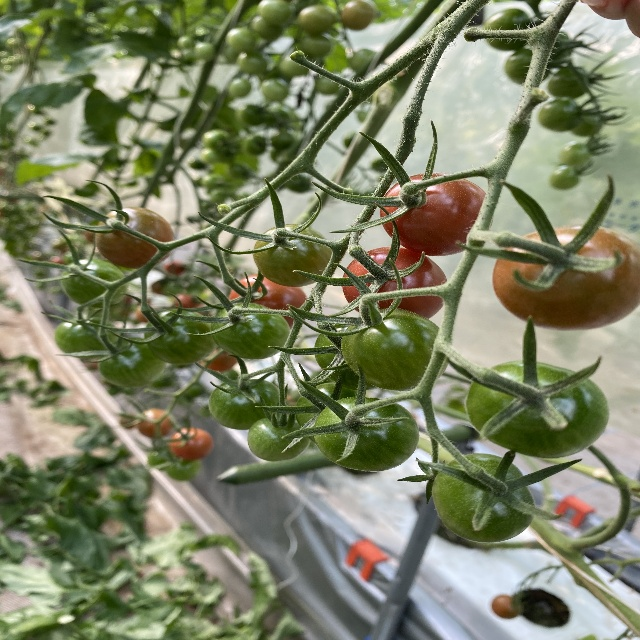l_fully_ripened: (378, 172, 494, 256), (343, 247, 449, 320), (229, 274, 310, 329)
l_green: (465, 361, 610, 458), (430, 452, 539, 543), (339, 307, 451, 391), (314, 397, 419, 471), (252, 223, 332, 288), (210, 301, 293, 360), (313, 319, 379, 390), (296, 382, 366, 443), (146, 307, 219, 364), (208, 378, 286, 430), (60, 256, 129, 309), (97, 337, 168, 386), (247, 417, 311, 461), (53, 318, 120, 358)
l_half_ripened: (490, 224, 640, 330), (93, 206, 174, 270)
